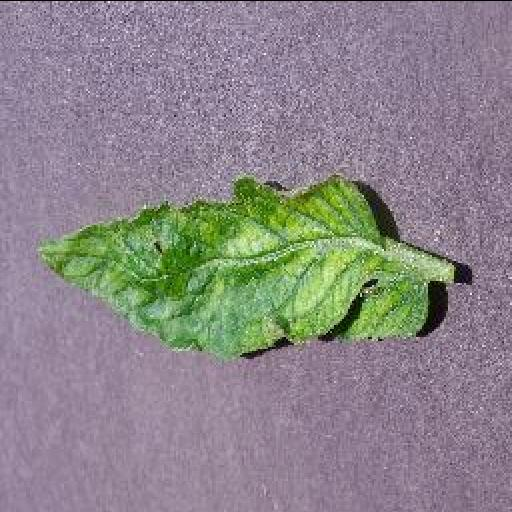disease_tomato: (29, 170, 431, 360)
